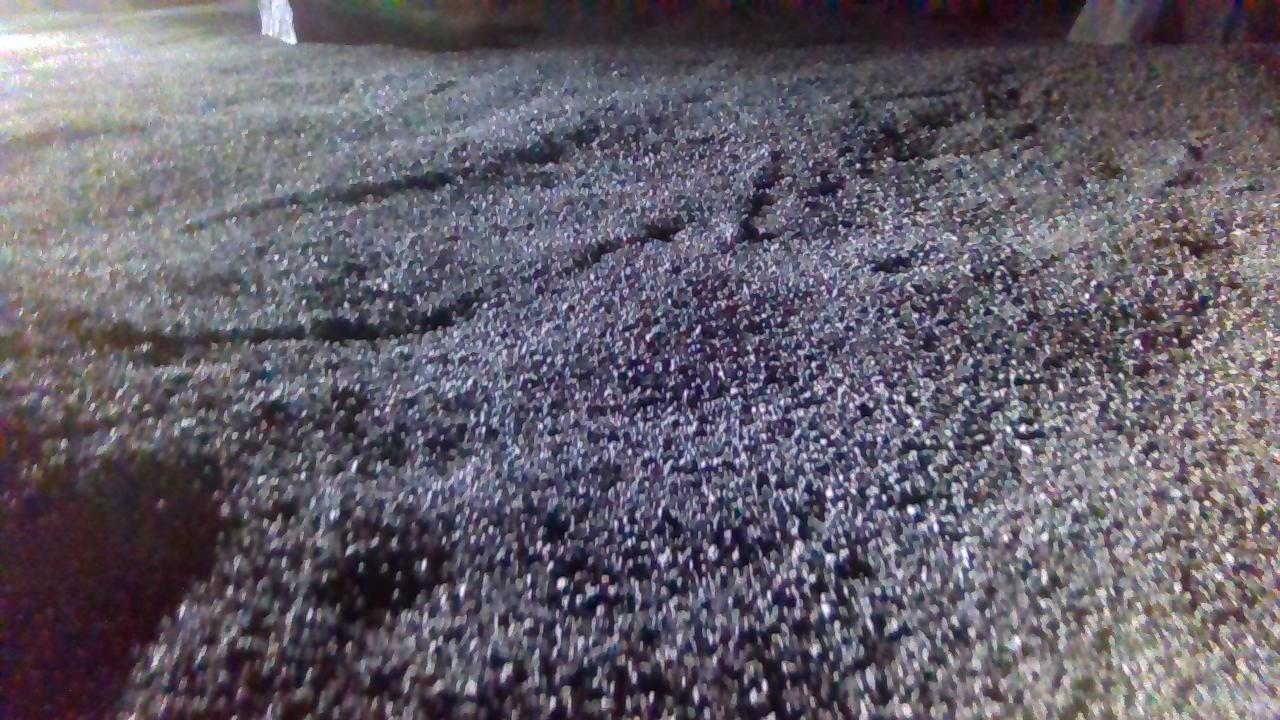rock: (1069, 0, 1280, 42), (258, 0, 296, 42)
